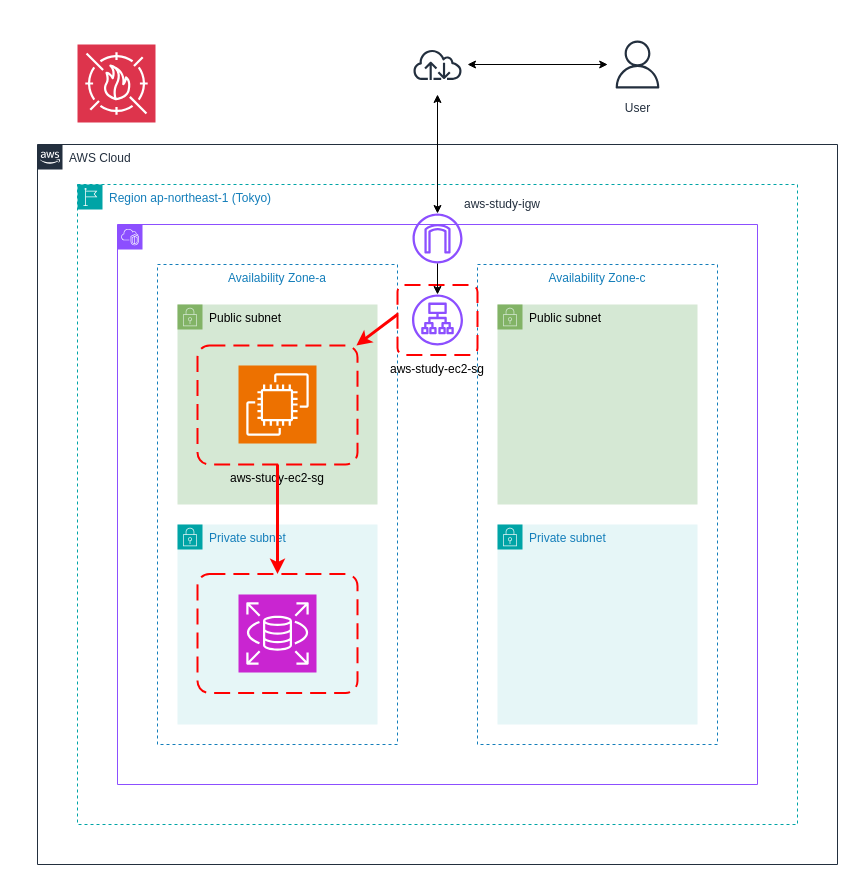
Some shapes in this 855 by 882 pixel diagram are drawn without their labels. The shapes that lost their labels are listed below. From the top down, each one's box as (x1, y1, x2, y2) in pixels, then its label:
(76, 44, 156, 122): AWSManagedRulesCommonRuleSet
(406, 34, 468, 94): Internet
(116, 224, 758, 784): VPC aws-study-vpc (http://10.0.0.0/16)
(196, 572, 358, 694): aws-study-rds-sg
